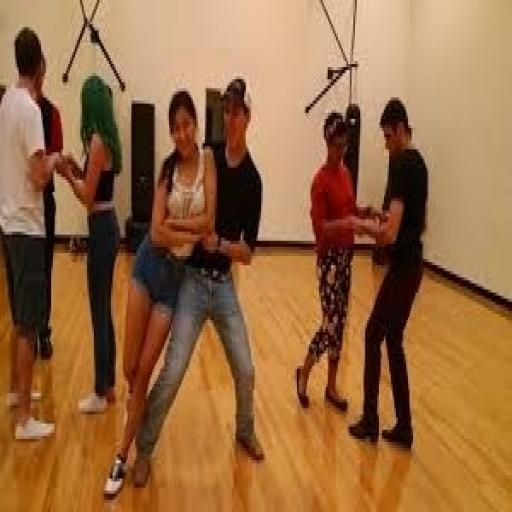dancing: (131, 76, 268, 494), (346, 95, 432, 454)
